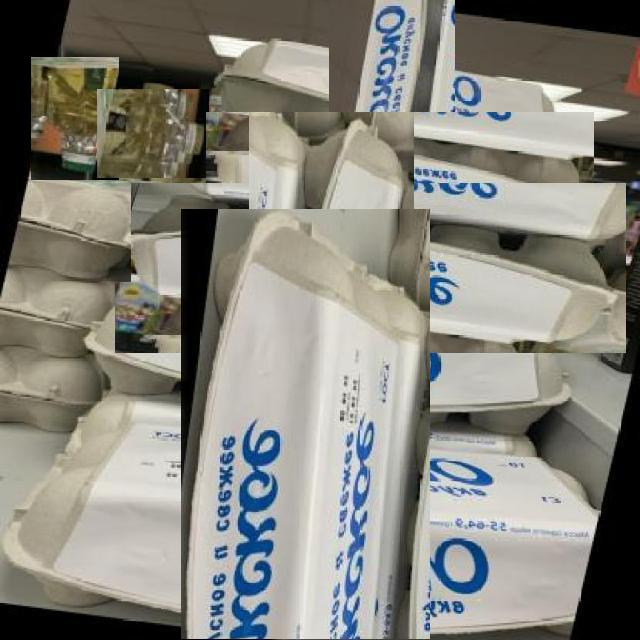Egg: (180, 210, 430, 640), (114, 182, 626, 353), (249, 112, 414, 621), (205, 111, 594, 240), (330, 0, 455, 276), (8, 180, 131, 282), (30, 56, 119, 182), (0, 266, 111, 360), (96, 89, 209, 178), (0, 344, 92, 438)
